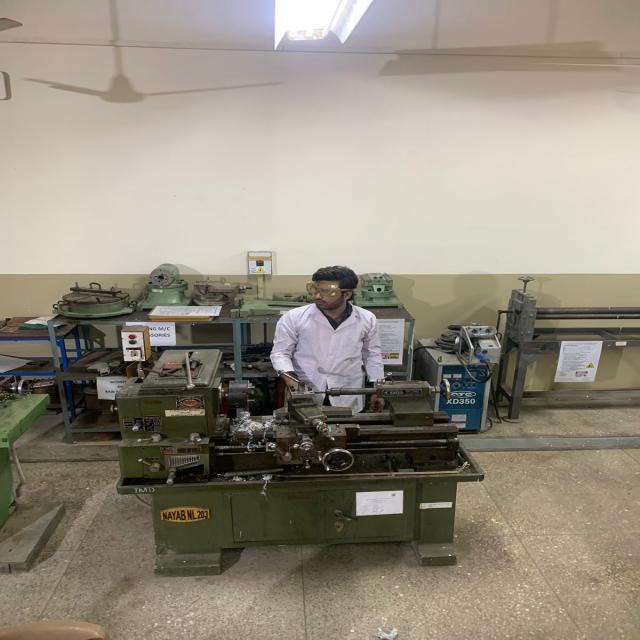googles: (302, 281, 339, 297)
labcoat: (271, 299, 386, 414)
